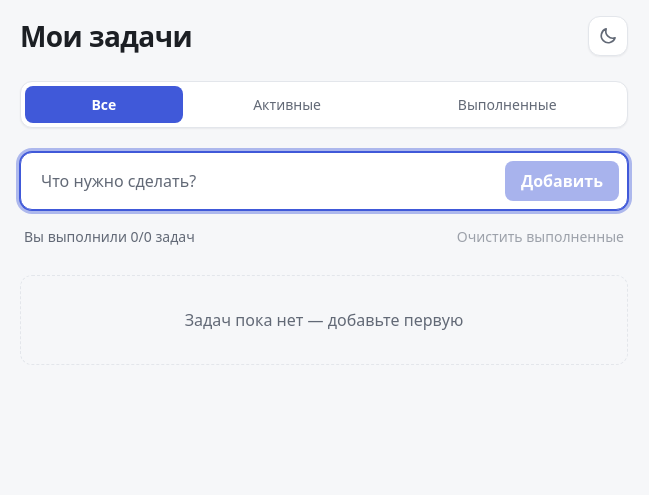
App: summary › updates the counter as tasks change
This screenshot has width=649, height=495.
In the field named "Новая задача": (263, 181) [29, 159, 497, 203], type "Раз"
Then press Enter
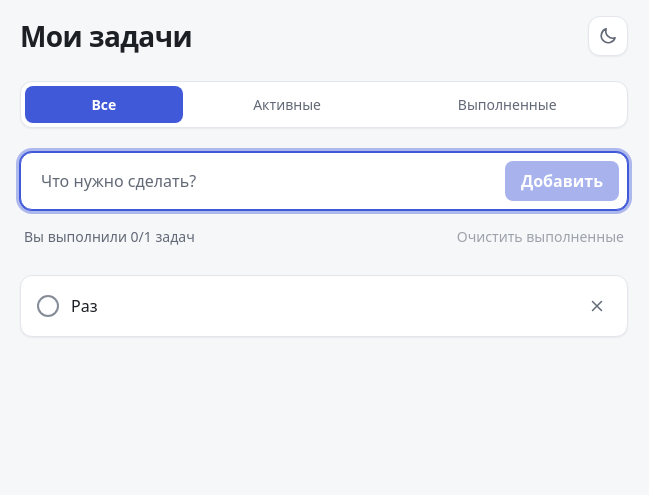
In the field named "Новая задача": (263, 181) [29, 159, 497, 203], type "Два"
Then press Enter
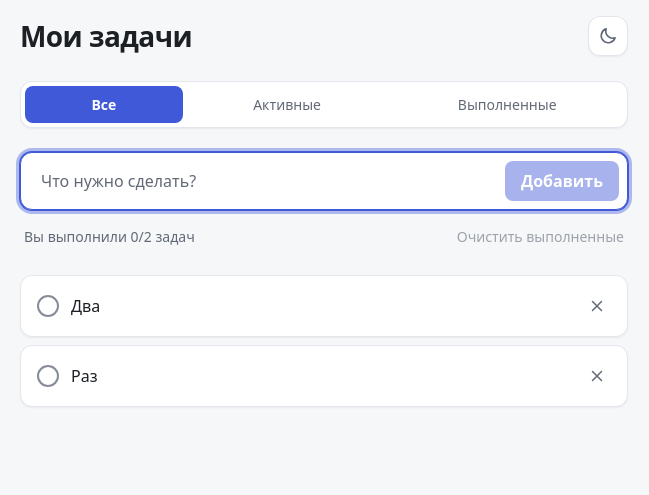
In the field named "Новая задача": (263, 181) [29, 159, 497, 203], type "Три"
Then press Enter
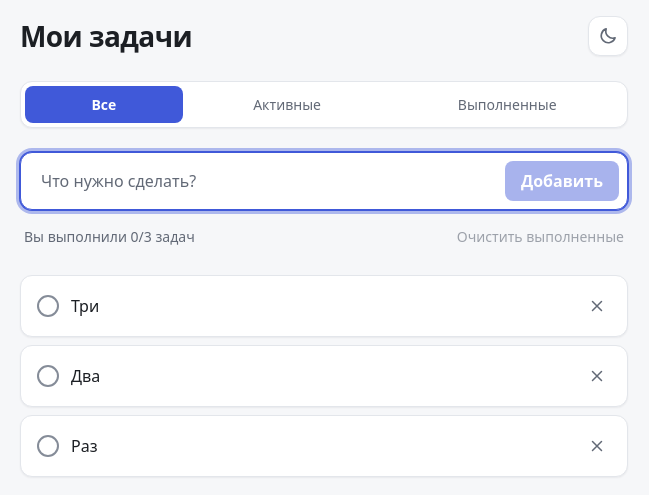
Expected: the text "Вы выполнили 0/3 задач" is shown, [24, 226, 195, 247]
Click the checkbox labelled "Раз": (48, 446) [37, 435, 59, 457]
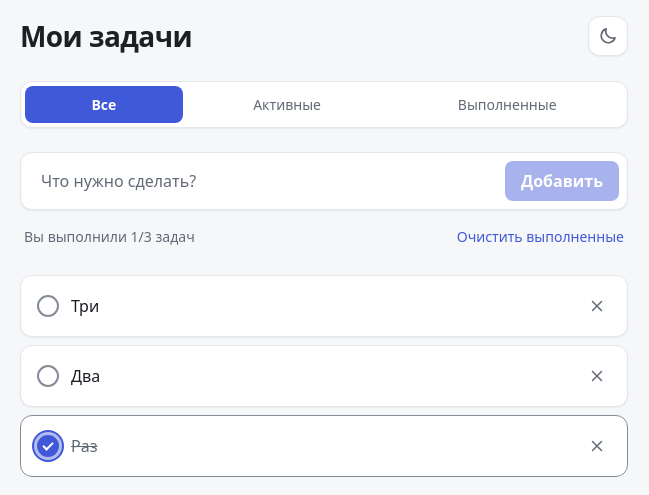
Click the checkbox labelled "Три": (48, 306) [37, 295, 59, 317]
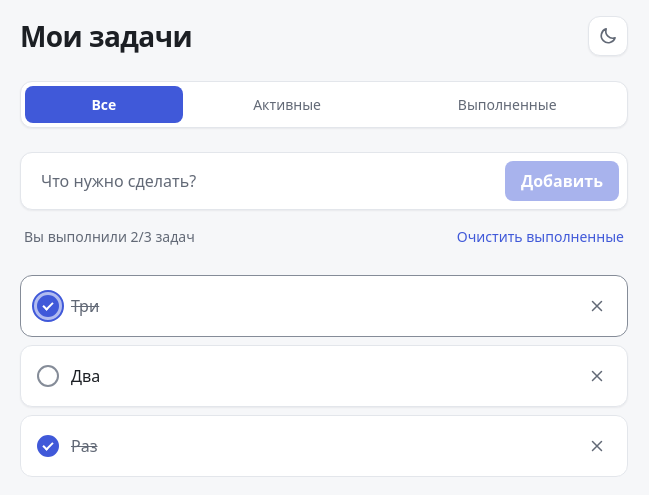
Expected: the text "Вы выполнили 2/3 задач" is shown, [24, 226, 195, 247]
Click the checkbox labelled "Три": (48, 306) [37, 295, 59, 317]
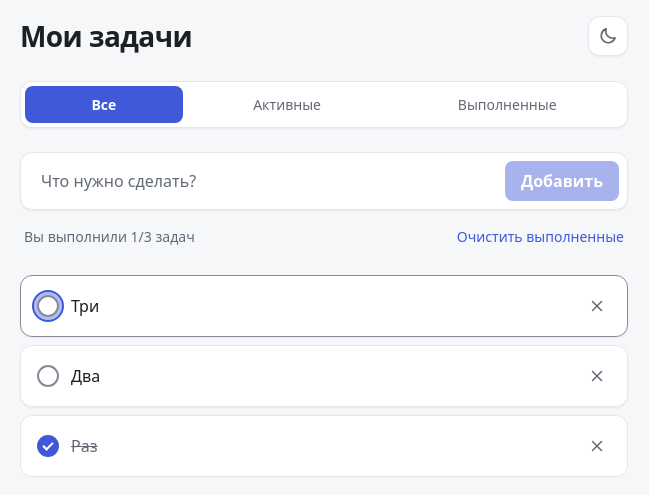
Expected: the text "Вы выполнили 1/3 задач" is shown, [24, 226, 195, 247]
